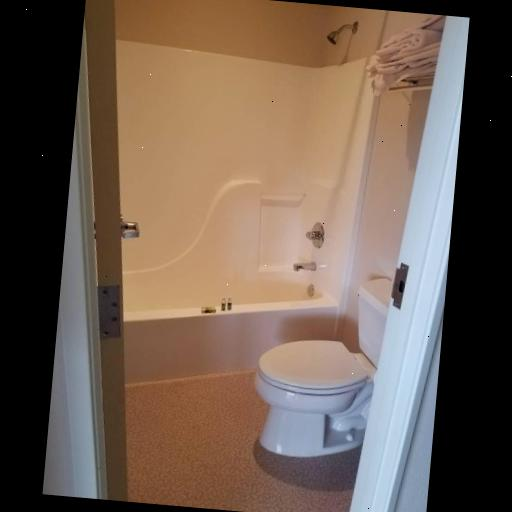clean_bathtub: (124, 234, 348, 386)
clean_toilet: (242, 261, 406, 479)
folded_towel: (369, 14, 442, 92)
